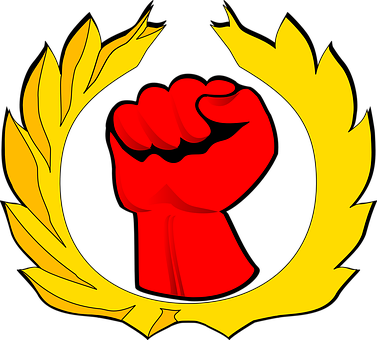fist: (116, 78, 256, 223)
